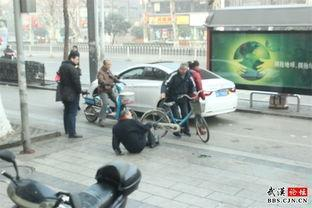Fall-Detected: (105, 103, 163, 154)
